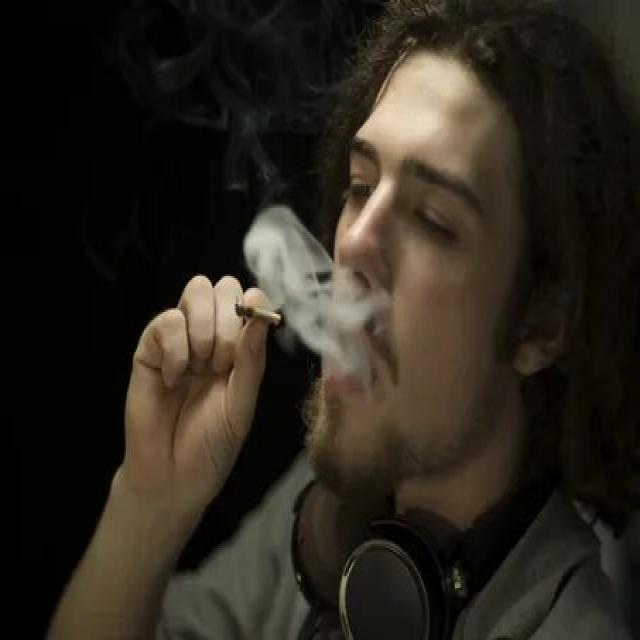smoke: (236, 296, 294, 342)
